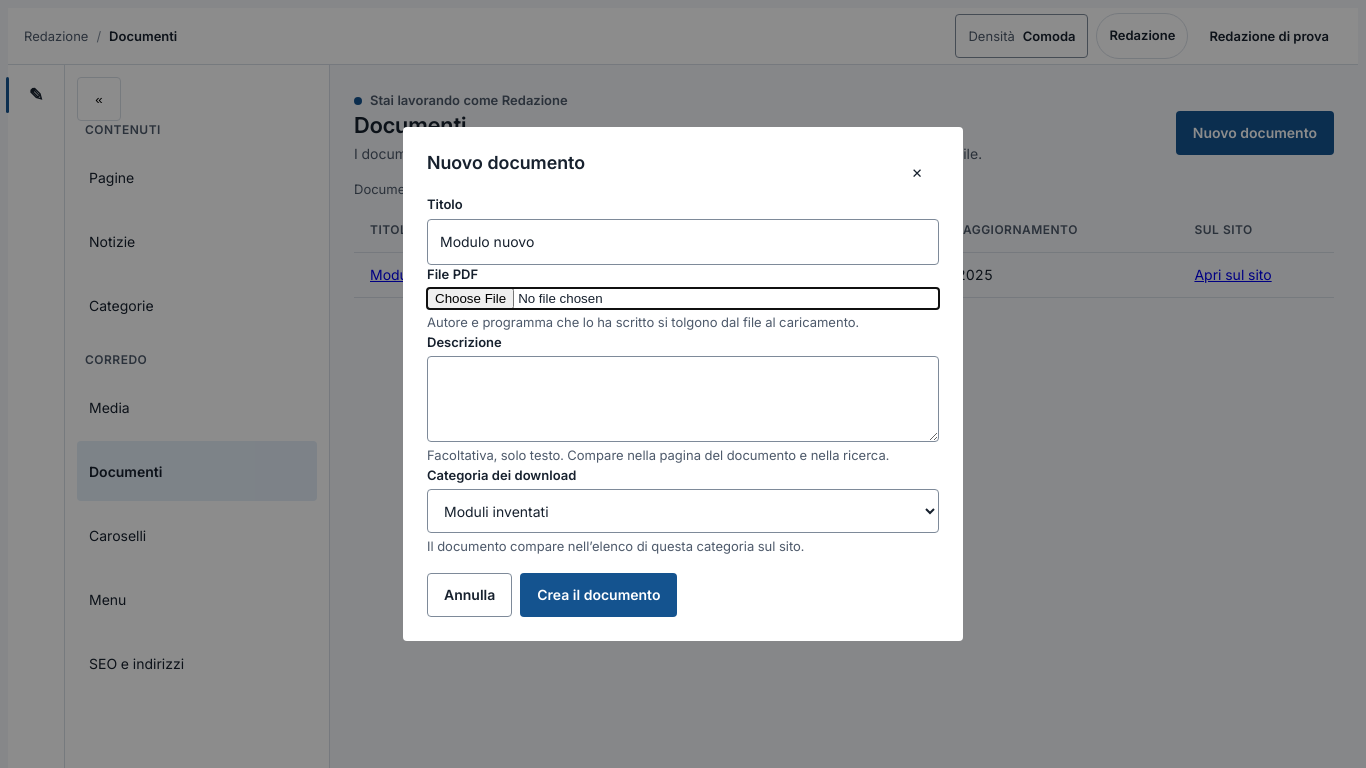
Test: «Nuovo documento» nell’elenco › un rifiuto del caricamento (file non pulibile, troppo grande) si legge e il documento non si crea
Earlier steps of the test are not shown.
Click the button "Crea il documento".
click(599, 595)  # box 520,573 -> 678,617
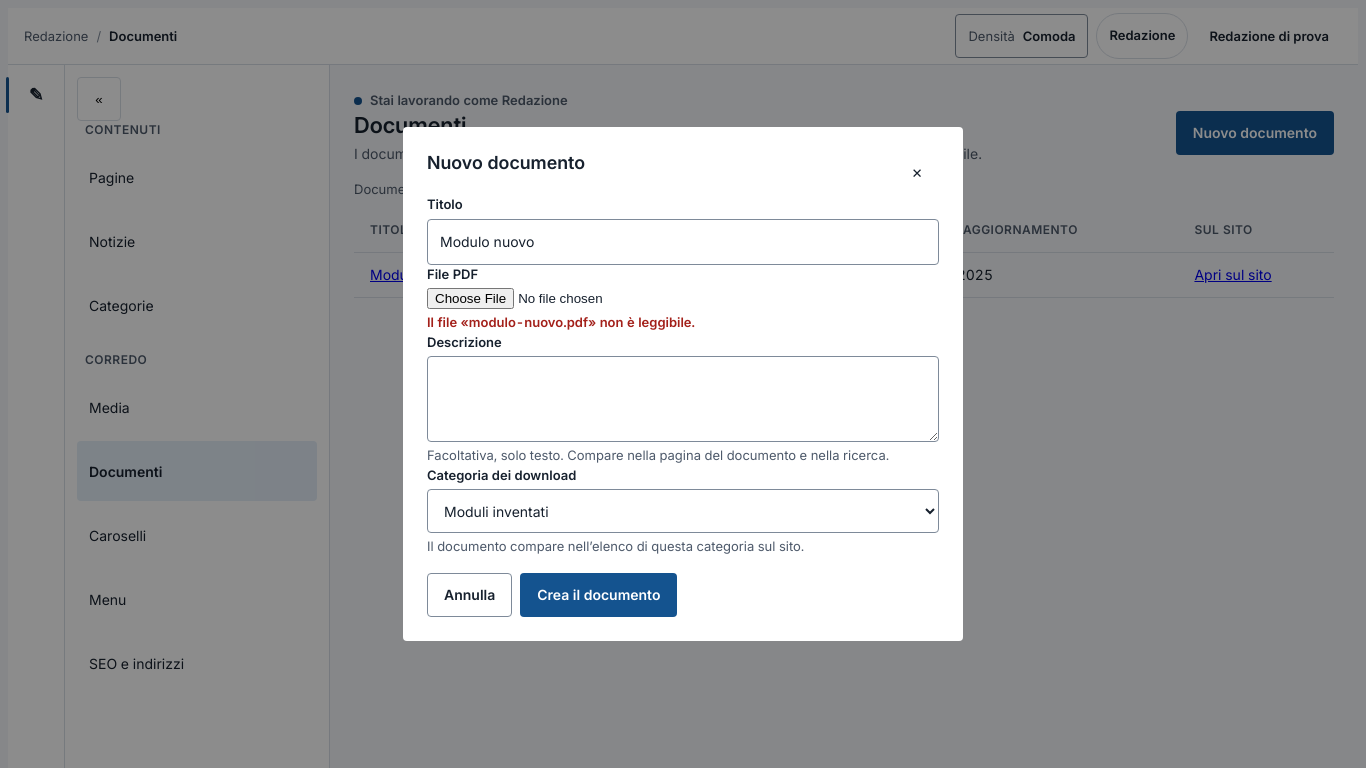
Now the text "Il file «modulo-nuovo.pdf» non è leggibile." is shown, box 427,314 -> 695,330
